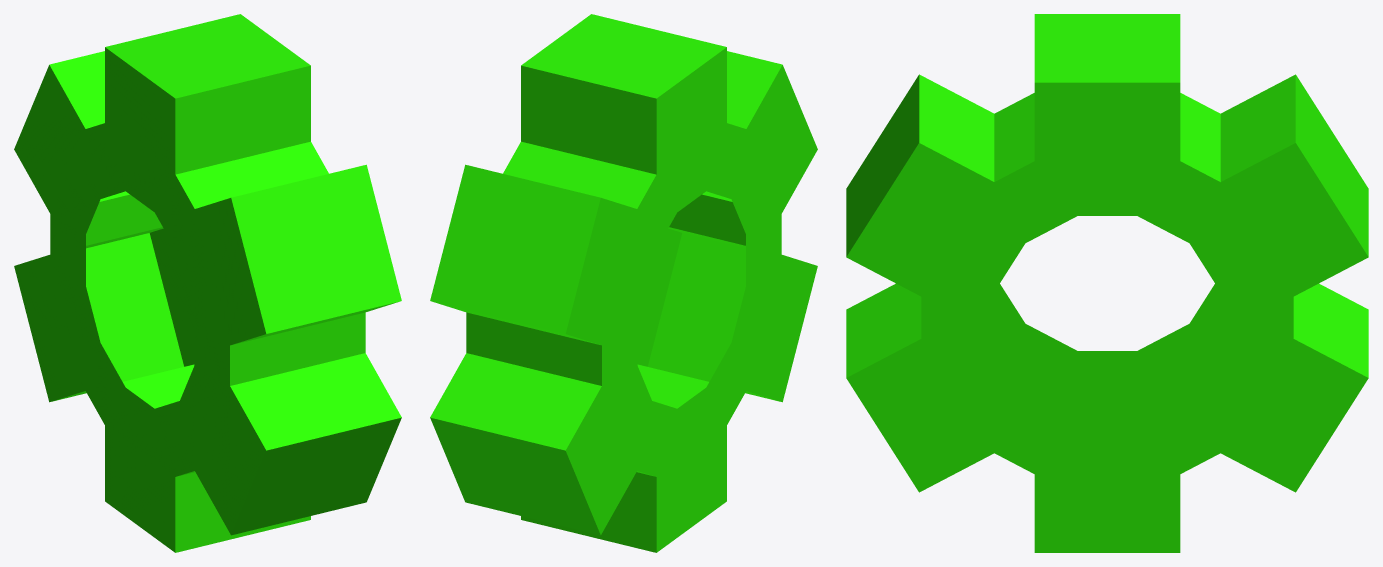
File: cryptex_3.fbx
The picture shows the model from 3 angles, left to right: view 1: azimuth 30°, elevation 25°; view 2: azimuth 150°, elevation 25°; view 3: azimuth 270°, elevation 25°; orthographic projection. The views are drawn at different scales.
Parts seen in each view (by area): view 1: Object016; view 2: Object016; view 3: Object016.
Boxes of the visible parts, x1=… form: Object016: x1=14, y1=14, x2=401, y2=552; Object016: x1=430, y1=14, x2=817, y2=552; Object016: x1=846, y1=14, x2=1368, y2=552.
Size of the model in its own units: 0.0219 by 0.0702 by 0.0707.
